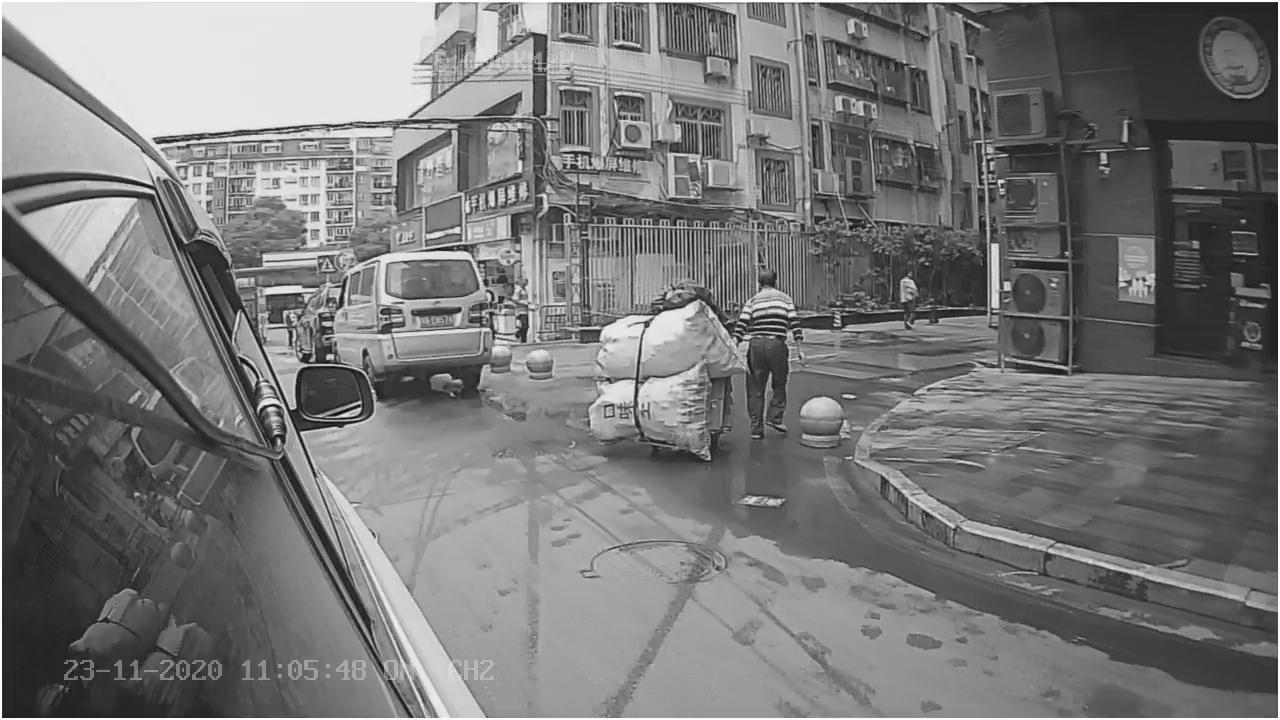person: (734, 264, 807, 442)
